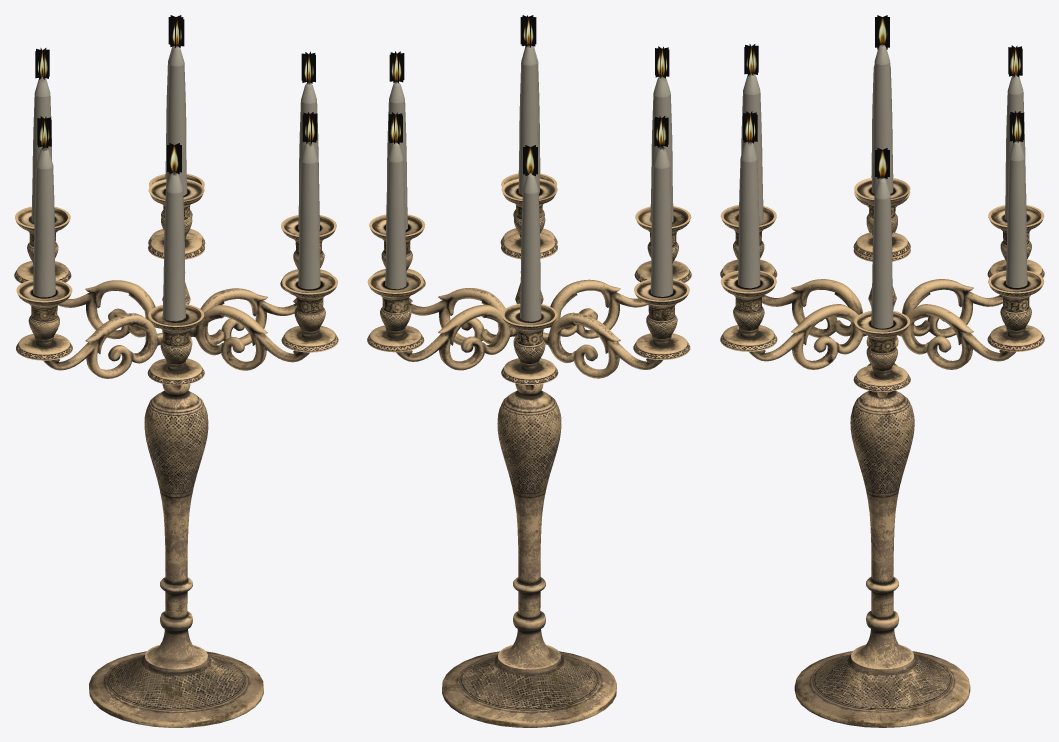
File: brass_candleholders.glb
3 renders of one model, left to right at view 1: azimuth 30°, elevation 25°; view 2: azimuth 150°, elevation 25°; view 3: azimuth 270°, elevation 25°, orthographic.
Visible parts, largest first — view 1: brass_candleholder_03; view 2: brass_candleholder_03; view 3: brass_candleholder_03.
Boxes of the visible parts, box(x1,y1,x2,y2) form: brass_candleholder_03: box(14, 15, 338, 727); brass_candleholder_03: box(367, 15, 691, 727); brass_candleholder_03: box(720, 15, 1044, 727).
Size of the model in its own units: 0.4083 by 0.8353 by 0.3646.
2 materials, 2 textured.
